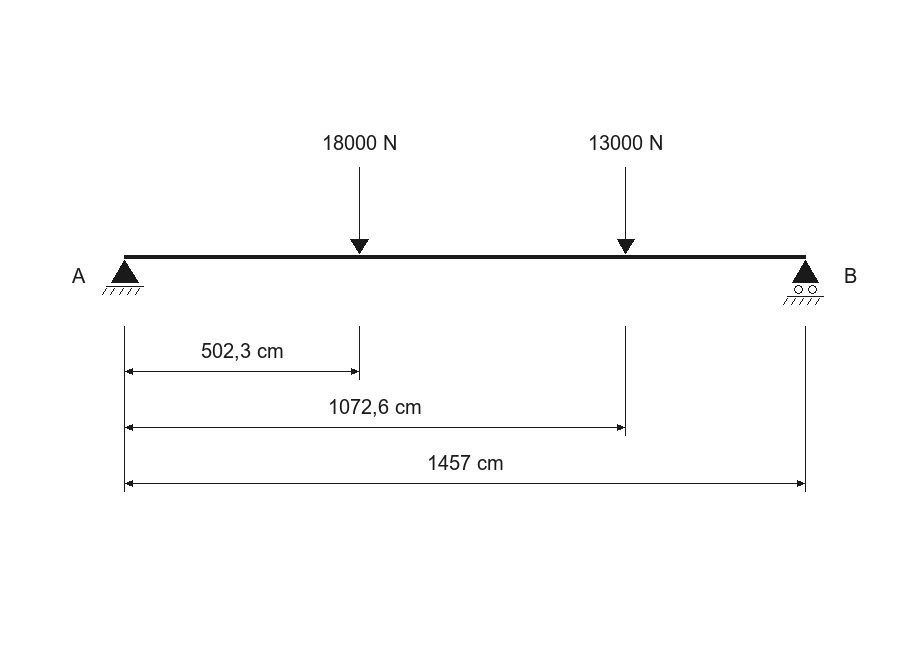pin_support: (102, 260, 144, 295)
point_load: (350, 167, 369, 254), (617, 167, 635, 254)
roller_support: (783, 260, 824, 305)
